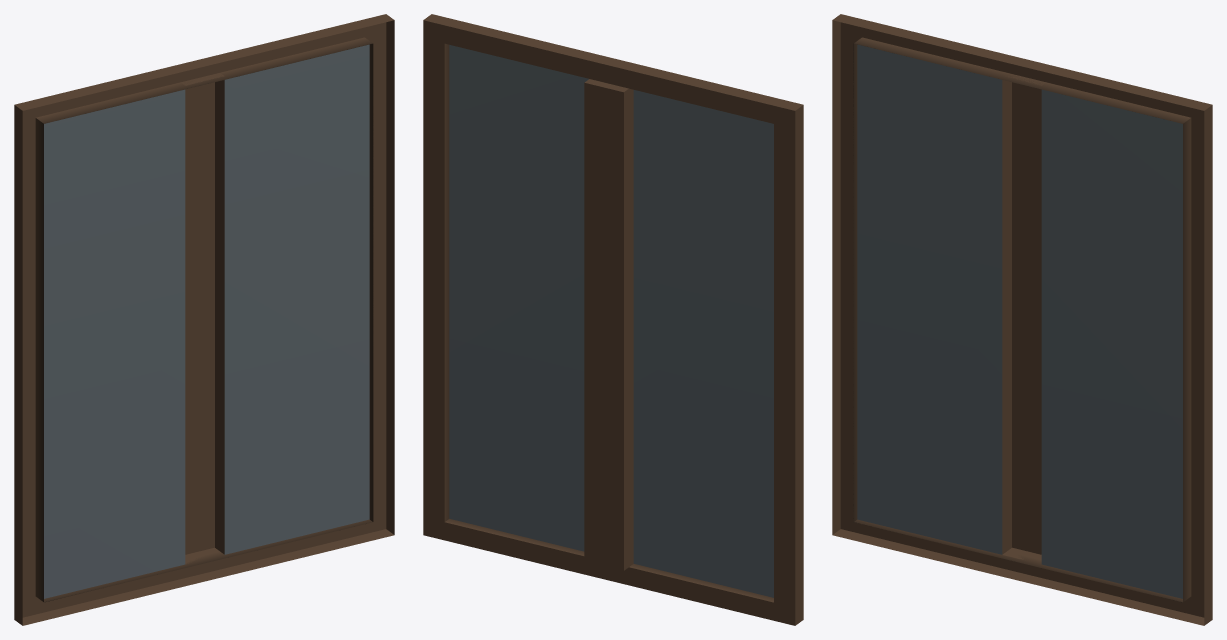
Rendered from Flat_old_window_brown_1.fbx.
3 renders of one model, left to right at view 1: azimuth 30°, elevation 25°; view 2: azimuth 150°, elevation 25°; view 3: azimuth 330°, elevation 25°, orthographic.
Visible parts, largest first — view 1: Flat_old_window_brown_1; view 2: Flat_old_window_brown_1; view 3: Flat_old_window_brown_1.
Boxes of the visible parts, x1,y1,x2,y2 form: Flat_old_window_brown_1: (14,14,394,625); Flat_old_window_brown_1: (423,14,803,625); Flat_old_window_brown_1: (832,14,1212,625).
Bounding box in the file's own units: 2.39 × 0.1511 × 3.16.
